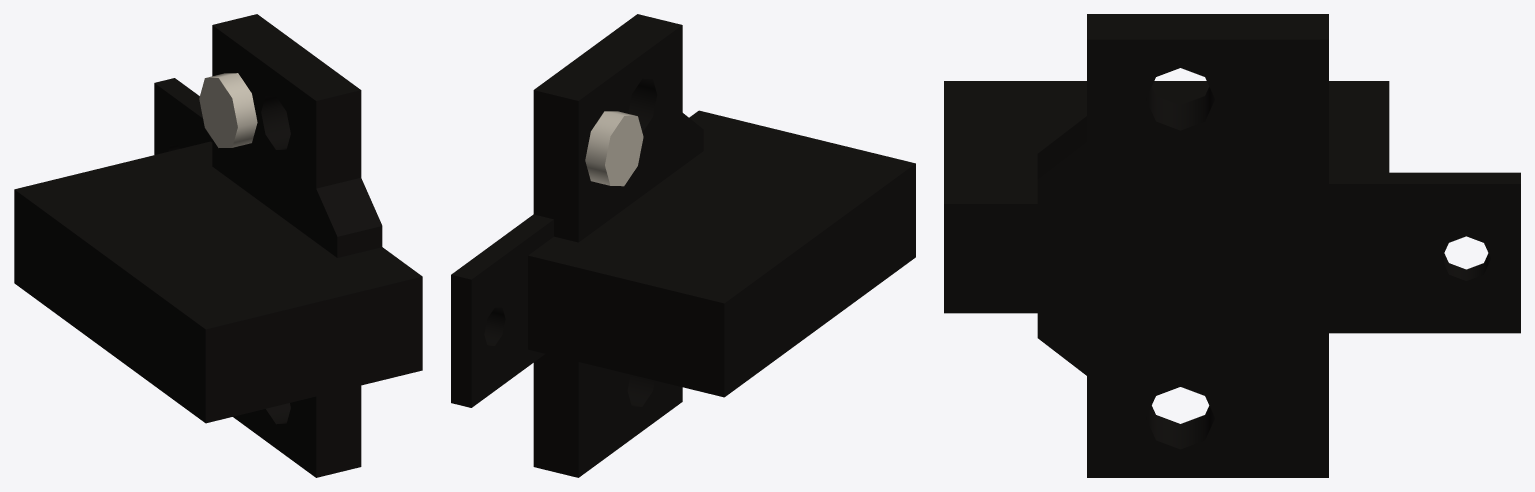
The picture shows the model from 3 angles, left to right: view 1: azimuth 30°, elevation 25°; view 2: azimuth 150°, elevation 25°; view 3: azimuth 270°, elevation 25°; orthographic projection. The views are drawn at different scales.
Parts seen in each view (by area): view 1: bau0006173177; view 2: bau0006173177; view 3: bau0006173177.
Part boxes in pixels (x1,y1,x2,y2): bau0006173177: [14, 14, 422, 477]; bau0006173177: [451, 14, 915, 477]; bau0006173177: [944, 14, 1520, 477].
Size of the model in its own units: 26.5 by 44 by 52.45.
